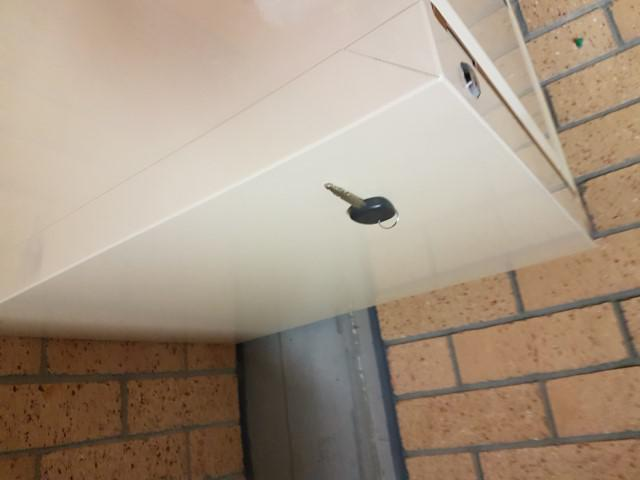key: (320, 176, 398, 230)
